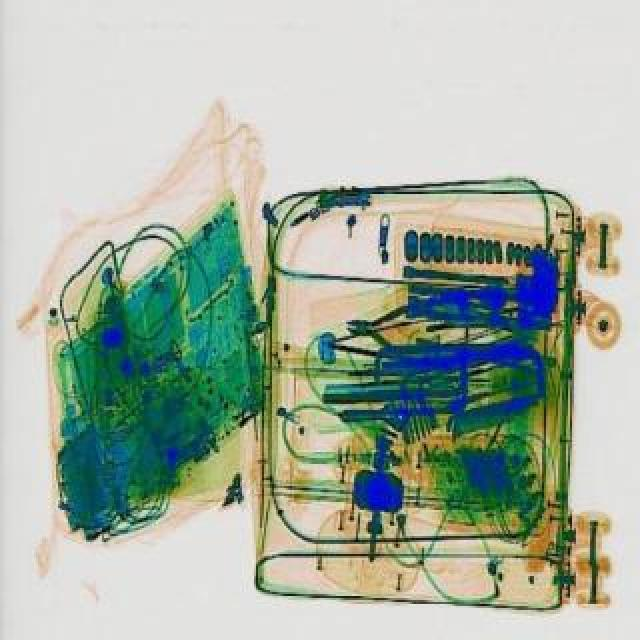wrench: (342, 294, 434, 358)
